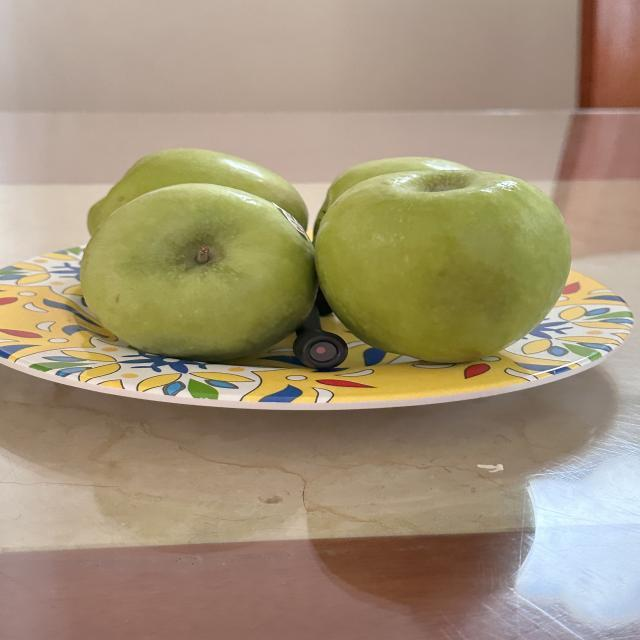hidden camera: (297, 330, 352, 373)
